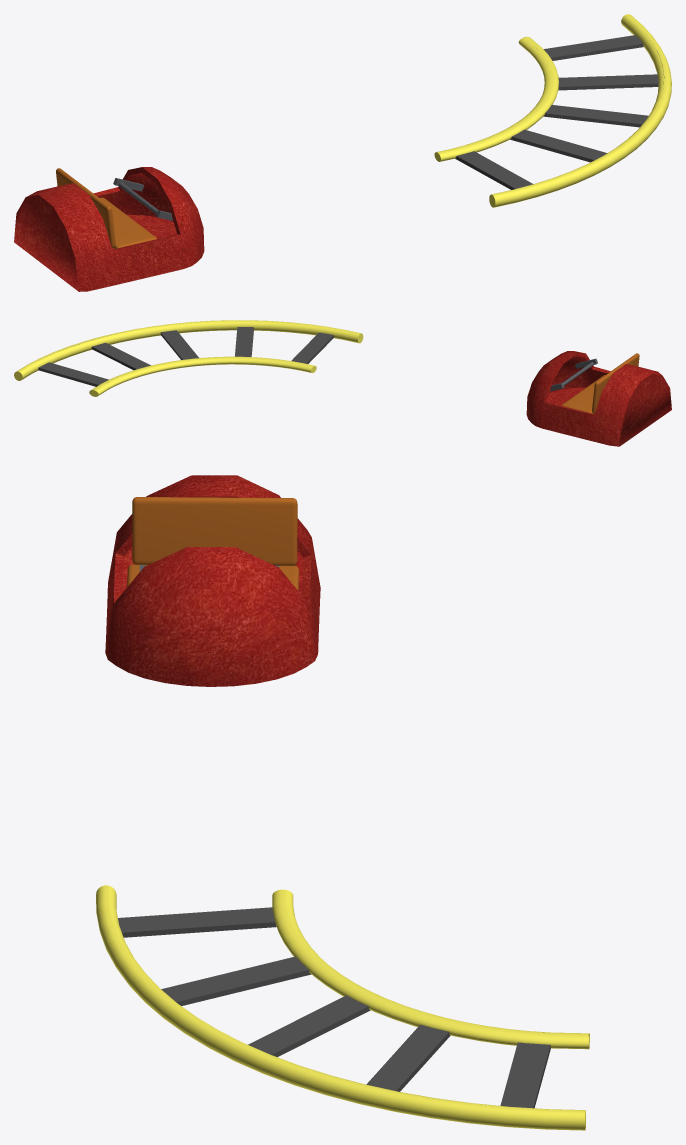
The model's file is RollercoasterAnimation2.fbx.
The picture shows the model from 3 angles, top to bottom: view 1: azimuth 30°, elevation 25°; view 2: azimuth 150°, elevation 25°; view 3: azimuth 270°, elevation 25°; orthographic projection. The views are drawn at different scales.
Parts seen in each view (by area): view 1: Capsule001, Box004, Box001, Box002; view 2: Capsule001, Box004, Box001, Box002; view 3: Box004, Capsule001, Box002.
Part boxes in pixels (x1=…): Capsule001: x1=14, y1=167, x2=204, y2=291; Box004: x1=434, y1=14, x2=671, y2=207; Box001: x1=100, y1=197, x2=156, y2=248; Box002: x1=56, y1=168, x2=115, y2=247; Capsule001: x1=526, y1=351, x2=671, y2=446; Box004: x1=14, y1=320, x2=363, y2=396; Box001: x1=561, y1=375, x2=604, y2=413; Box002: x1=592, y1=353, x2=639, y2=413; Box004: x1=96, y1=885, x2=589, y2=1130; Capsule001: x1=105, y1=475, x2=320, y2=686; Box002: x1=132, y1=497, x2=297, y2=565.
Size of the model in its own units: 560 by 68.35 by 222.
Materials: 4 (4 with a texture image).
